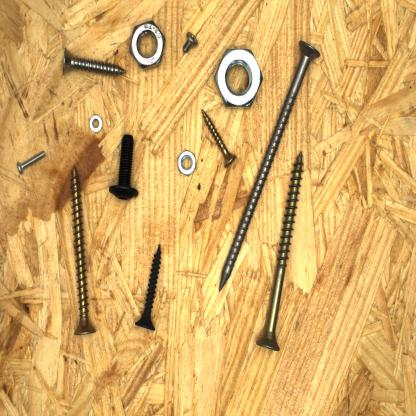screw: (217, 30, 324, 294), (252, 147, 310, 354), (69, 162, 103, 339), (132, 241, 164, 334), (199, 105, 240, 170), (106, 130, 140, 204), (59, 44, 128, 78), (13, 148, 48, 178), (178, 27, 203, 56)
